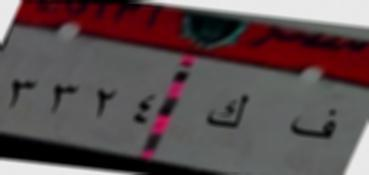2: (92, 84, 119, 126)
3: (47, 77, 83, 120)
4: (130, 92, 157, 130)
faa: (287, 102, 344, 149)
kaaf: (205, 88, 249, 137)
